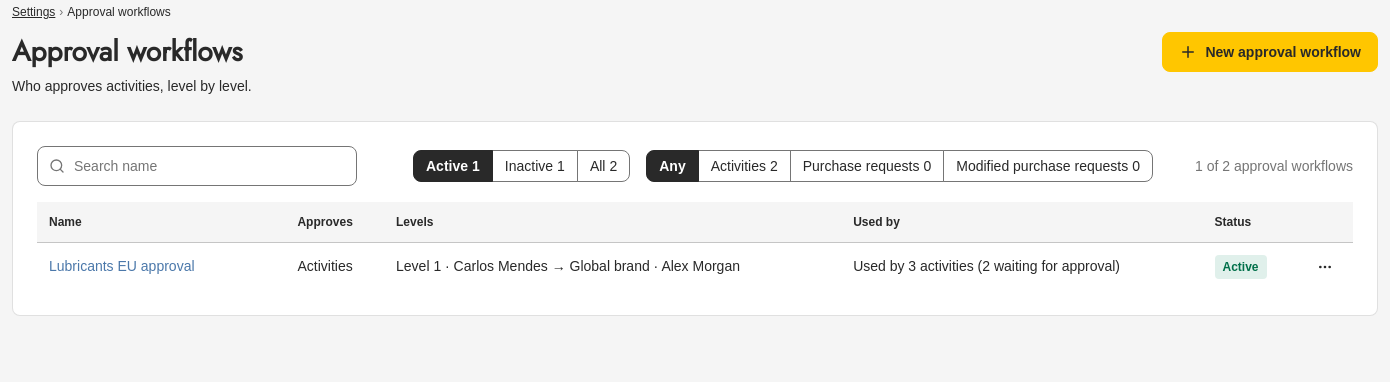
Test case: ApprovalWorkflowsPage (feature 008, US4) › shows the active workflows first, searches names and filters by status
Expected: the row "Lubricants EU approval" is shown, [37,242,1353,290]
Expected: the text "1 of 2 approval workflows" is shown, [1195,156,1353,176]
Click the button "All 2".
click(604, 166)  # box [577,150,630,182]
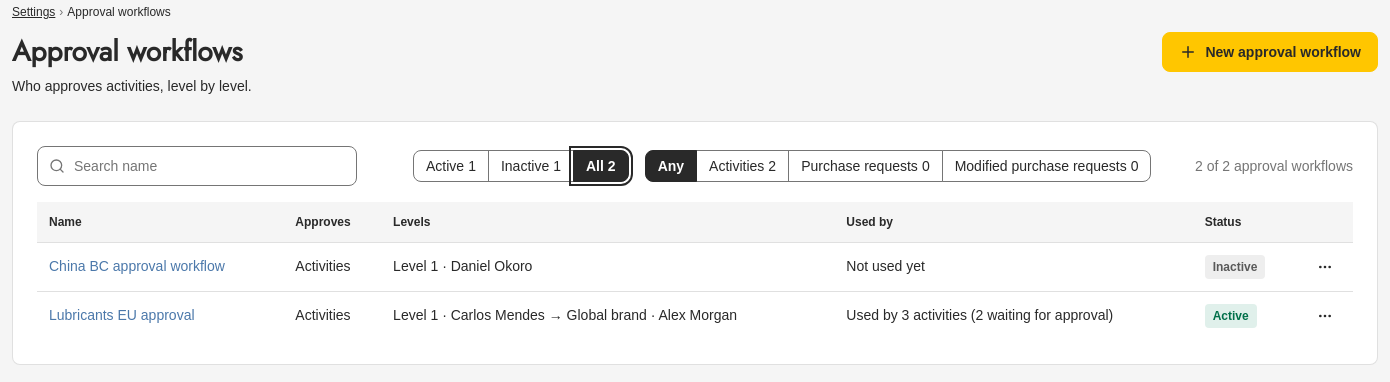
Type "china" into the search field named "Search approval workflows".
click(197, 166); type("china")  # box [37,146,357,186]
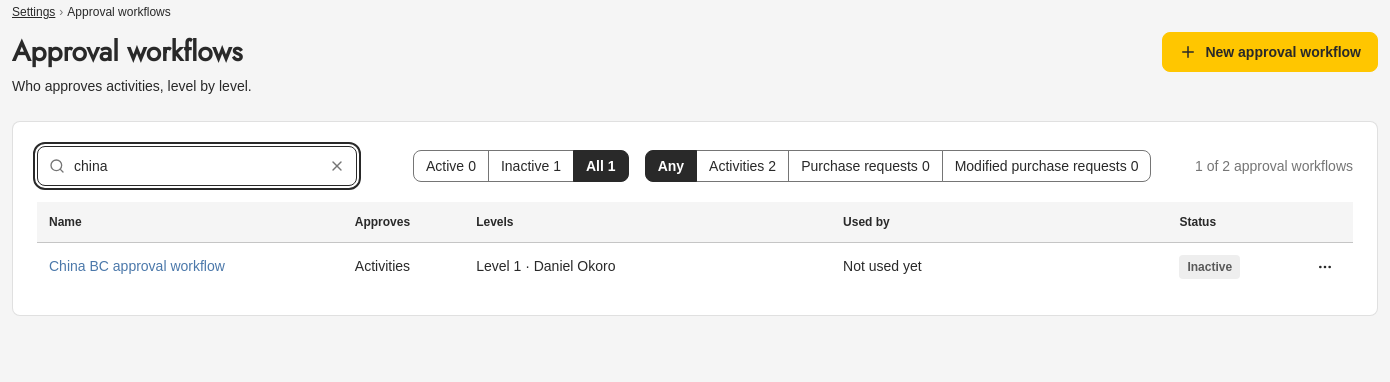
Result: the text "1 of 2 approval workflows" is shown at [1195,156,1353,176]
Result: the link "Lubricants EU" is gone
Clear the search field named "Search approval workflows" at (197, 166), box [37,146,357,186]
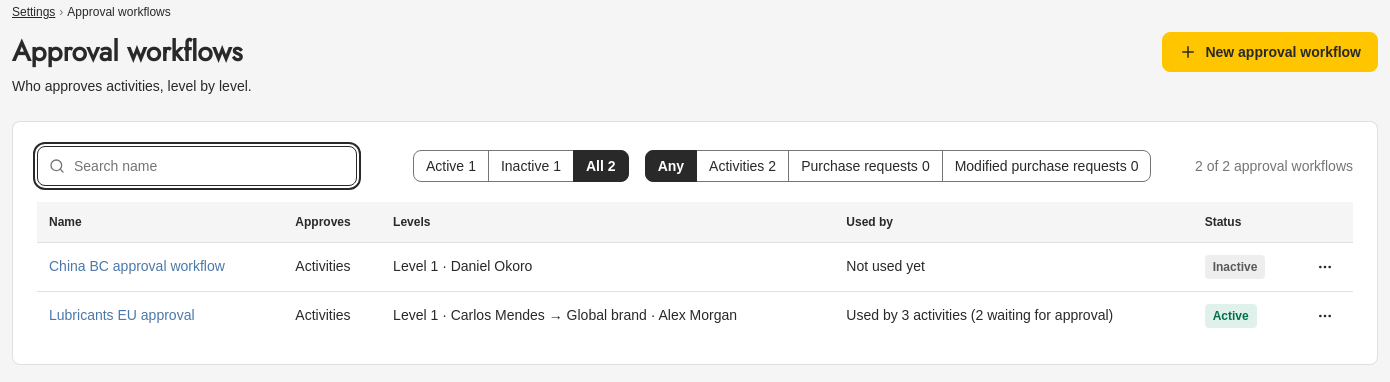
Click the button "Inactive 1".
click(531, 166)  # box [488,150,574,182]
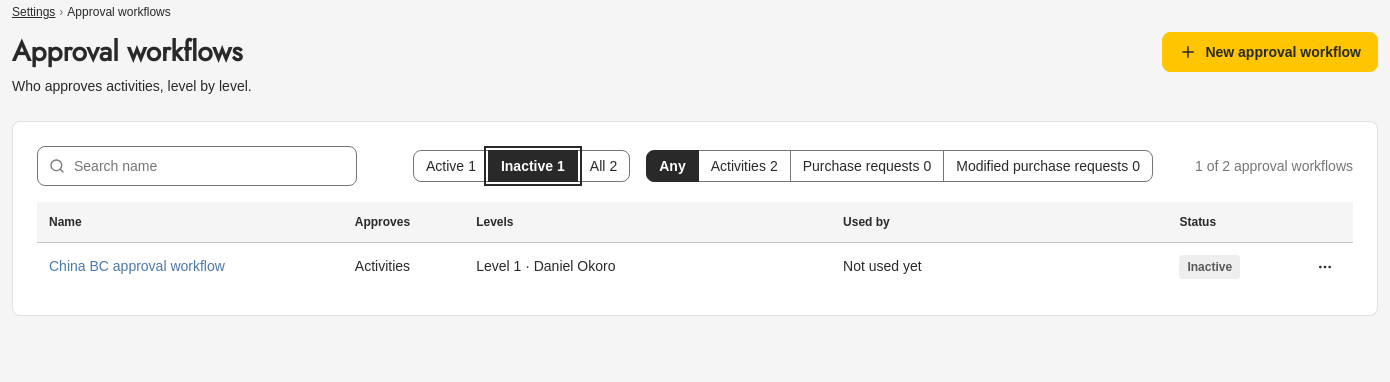
Type "lubricants" into the search field named "Search approval workflows".
click(197, 166); type("lubricants")  # box [37,146,357,186]
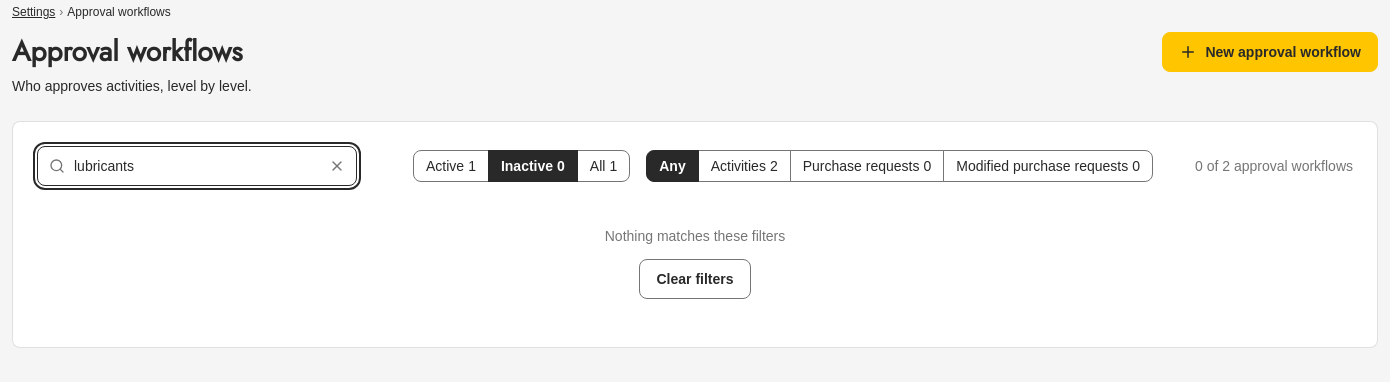
Result: the text "Nothing matches these filters" is shown at [605,226,785,247]
Click the button "Clear filters".
click(695, 279)  # box [640,259,750,299]
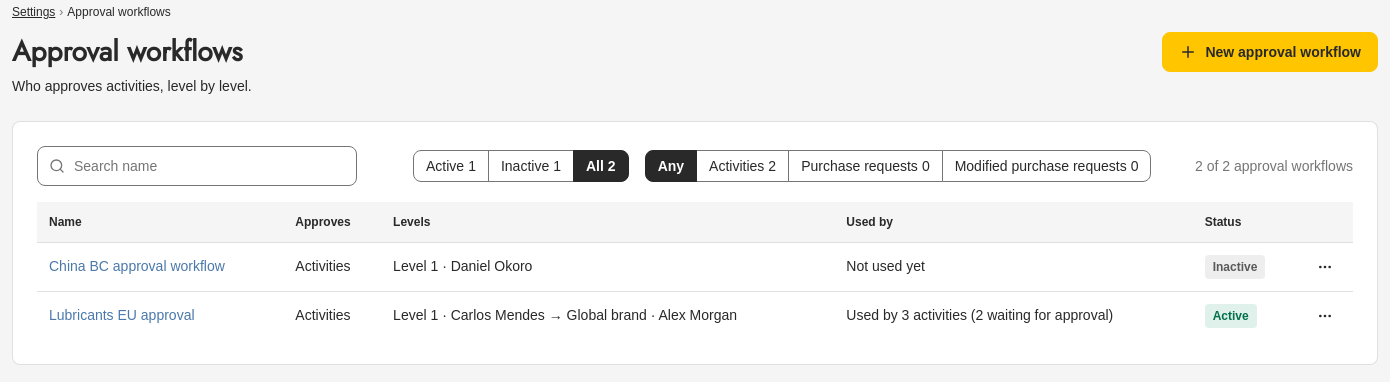
Result: the text "2 of 2 approval workflows" is shown at [1195,156,1353,176]
